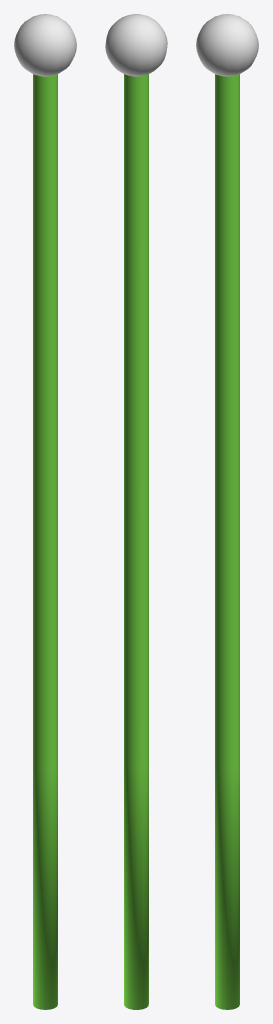
The model's file is たんぽぽ.fbx.
3 renders of one model, left to right at view 1: azimuth 90°, elevation 25°; view 2: azimuth 210°, elevation 25°; view 3: azimuth 270°, elevation 25°, orthographic.
Parts seen in each view (by area): view 1: たんぽぽ茎; view 2: たんぽぽ茎; view 3: たんぽぽ茎.
Part boxes in pixels (x1,y1,x2,y2): たんぽぽ茎: (14,14,76,1009); たんぽぽ茎: (105,14,167,1009); たんぽぽ茎: (196,14,258,1009).
Bounding box in the file's own units: 5.92 × 103 × 5.92.
